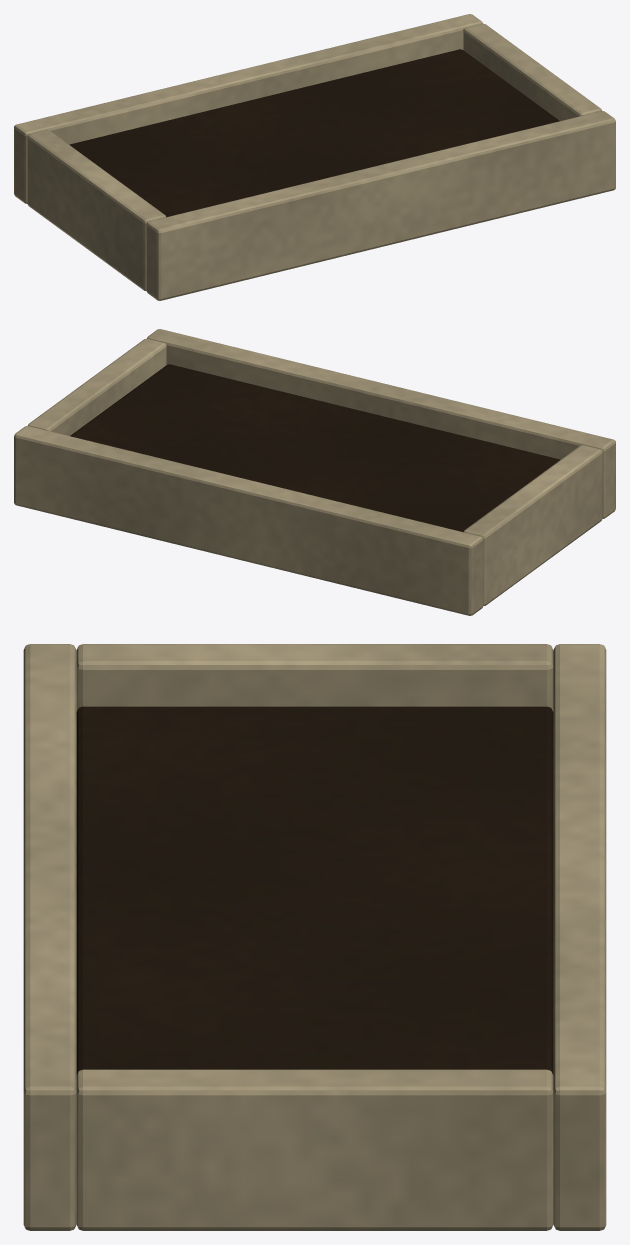
Rendered from park_planter_2m.glb.
3 views of the same model, one above another, from view 1: azimuth 30°, elevation 25°; view 2: azimuth 150°, elevation 25°; view 3: azimuth 270°, elevation 25° (orthographic). The views are drawn at different scales.
Parts seen in each view (by area): view 1: park_planter_2m; view 2: park_planter_2m; view 3: park_planter_2m.
Boxes of the visible parts, box(x1,y1,x2,y2) form: park_planter_2m: box(14, 14, 615, 300); park_planter_2m: box(14, 329, 615, 615); park_planter_2m: box(23, 644, 606, 1230).
Size of the model in its own units: 2.4 by 0.36 by 1.32.
2 materials, 2 textured.
